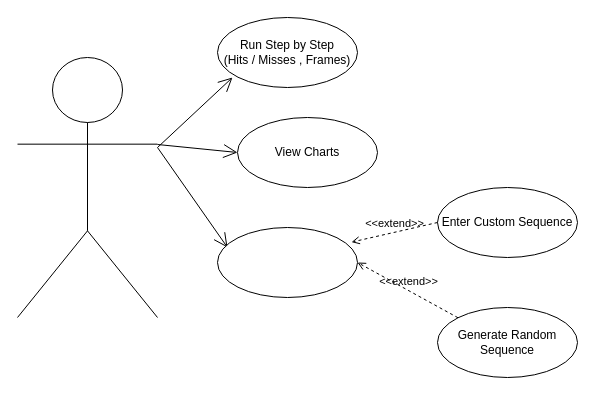
This 595x395 diagram has some shape labels left out. The box of each missing label's shape, as (x1, y1, x2, y2) in pixels:
Select Algorithm (FIFO / LRU / Optimal): (216, 226, 358, 298)
User: (16, 56, 158, 318)
